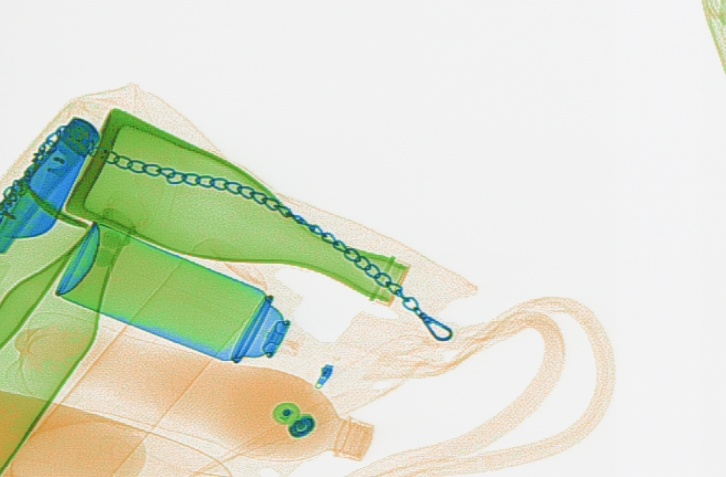knife: (1, 115, 99, 259)
pressure: (53, 220, 305, 363)
